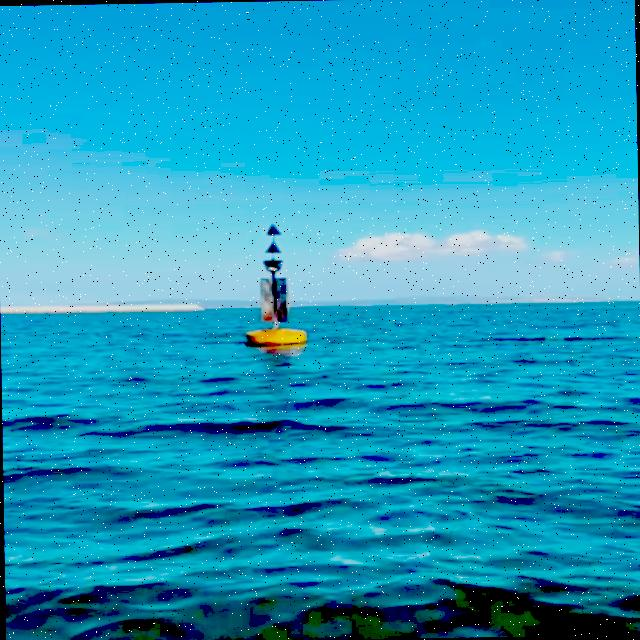marque: (238, 221, 310, 346)
